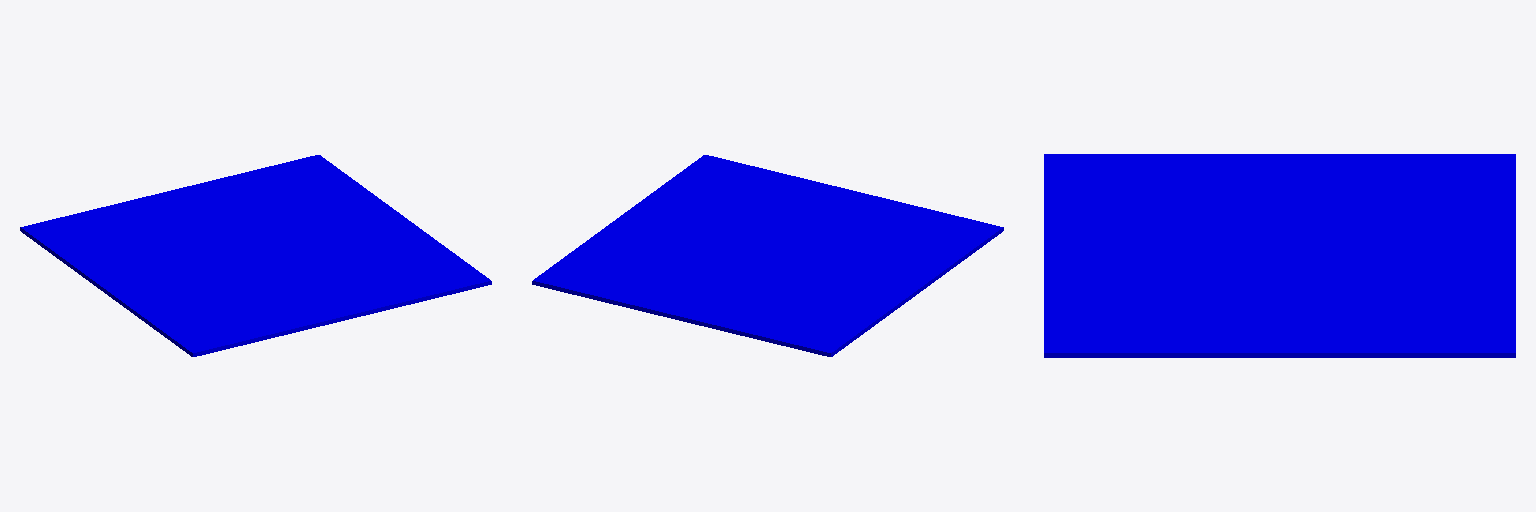
URDF robot description (base plate):
<?xml version="1.0"?>
<!-- created with Phobos 1.0.1 "Capricious Choutengan" -->
  <robot name="base plate">

    <link name="Untitled">
      <inertial>
        <origin xyz="0 0 0" rpy="0 0 0"/>
        <mass value="0.001"/>
        <inertia ixx="0.001" ixy="0" ixz="0" iyy="0.001" iyz="0" izz="0.001"/>
      </inertial>
      <visual name="Cube">
        <origin xyz="0 0 0" rpy="0 0 0"/>
        <geometry>
          <box size="0.75 0.75 0.01"/>
        </geometry>
        <material name="Material.004"/>
      </visual>
    </link>

    <material name="Material.004">
      <color rgba="0 0 1 1.0"/>
    </material>

  </robot>

--- Render facts (derived) ---
The picture shows the robot from 3 angles, left to right: view 1: azimuth 30°, elevation 25°; view 2: azimuth 150°, elevation 25°; view 3: azimuth 270°, elevation 25°; orthographic projection.
Model base plate with 1 links and 0 joints (none), rooted at Untitled, posed every joint at zero.
Visible links, largest first — view 1: Untitled; view 2: Untitled; view 3: Untitled.
Link boxes in pixels (x1,y1,x2,y2): Untitled: (20, 155, 491, 356); Untitled: (532, 155, 1003, 356); Untitled: (1044, 154, 1515, 357).
Bounding box of the posed robot: 0.75 × 0.75 × 0.01 m (x, y, z).
Geometry: primitives only (box / cylinder / sphere), no mesh files.